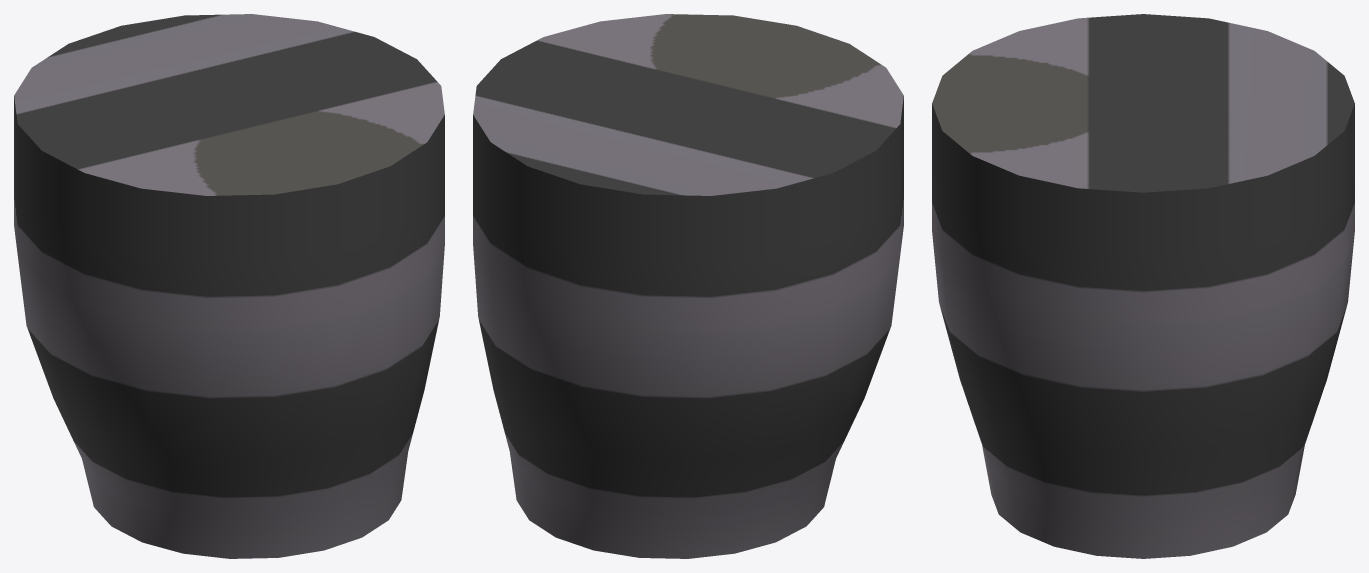
Rendered from cha_cat_leftleg.obj.
The picture shows the model from 3 angles, left to right: view 1: azimuth 30°, elevation 25°; view 2: azimuth 150°, elevation 25°; view 3: azimuth 270°, elevation 25°; orthographic projection. The views are drawn at different scales.
Visible parts, largest first — view 1: leftleg; view 2: leftleg; view 3: leftleg.
Boxes of the visible parts, x1,y1,x2,y2 form: leftleg: [14, 14, 444, 558]; leftleg: [473, 14, 903, 558]; leftleg: [932, 14, 1354, 558].
Size of the model in its own units: 0.2415 by 0.2415 by 0.2415.
1 material, 1 textured.
